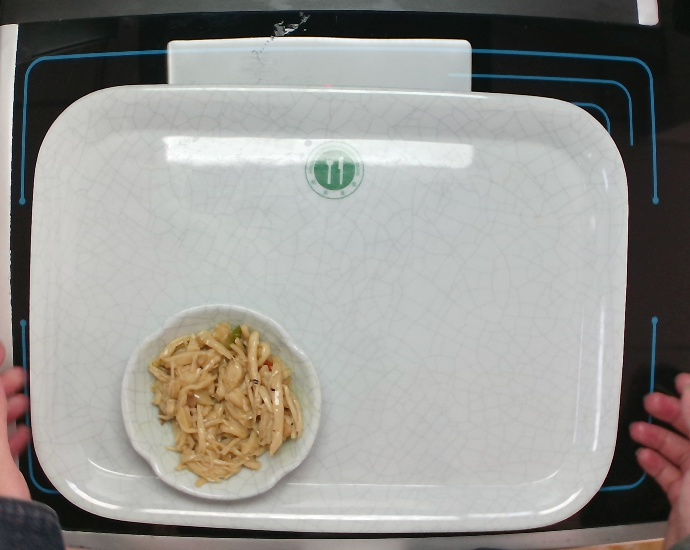JYsf-Ao_Yuan_Wan: (116, 299, 327, 505)
